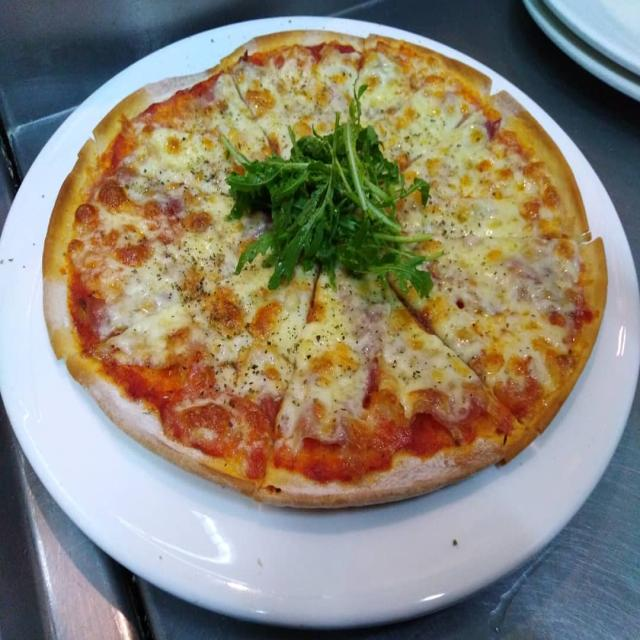pizza: (44, 31, 606, 506)
